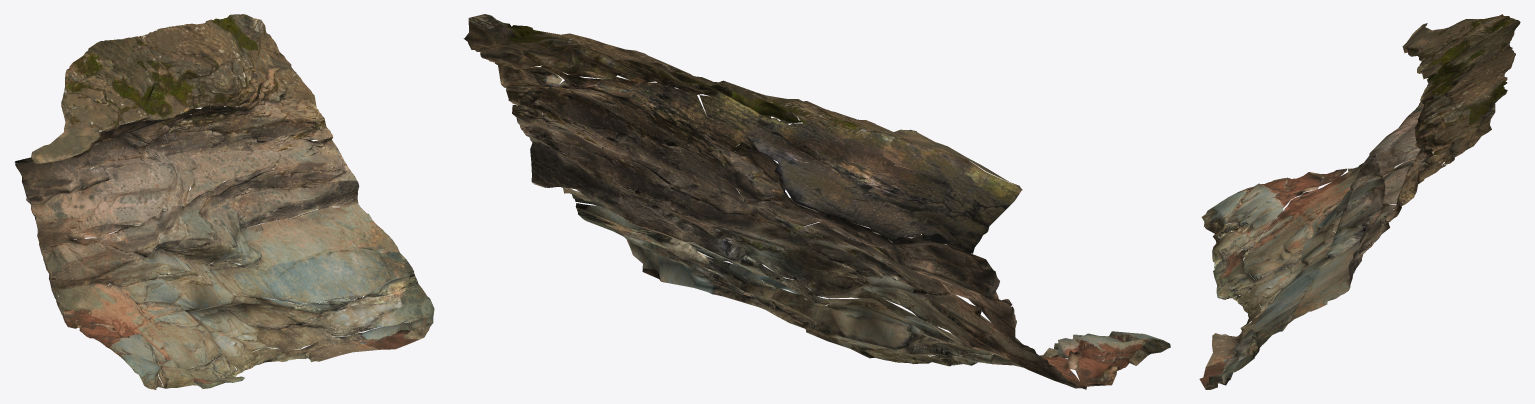
Rendered from rock_face_01.glb.
3 views of the same model, side by side, from view 1: azimuth 30°, elevation 25°; view 2: azimuth 150°, elevation 25°; view 3: azimuth 270°, elevation 25° (orthographic). The views are drawn at different scales.
Visible parts, largest first — view 1: rock_face_01; view 2: rock_face_01; view 3: rock_face_01.
Boxes of the visible parts, bbox=[...] form: rock_face_01: bbox=[14, 14, 434, 389]; rock_face_01: bbox=[463, 14, 1170, 389]; rock_face_01: bbox=[1199, 14, 1520, 389].
Bounding box in the file's own units: 1.38 × 1 × 1.06.
Materials: 1 (1 with a texture image).
